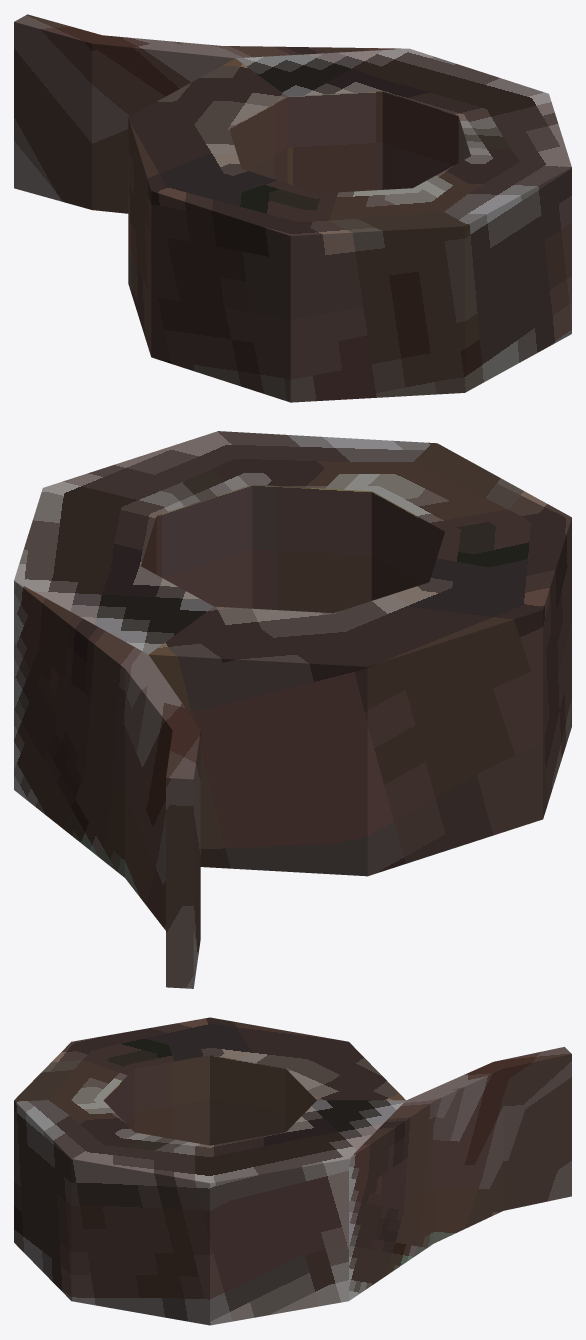
The model's file is item_electrical_tape.glb.
3 renders of one model, top to bottom at view 1: azimuth 30°, elevation 25°; view 2: azimuth 150°, elevation 25°; view 3: azimuth 270°, elevation 25°, orthographic. The views are drawn at different scales.
Parts seen in each view (by area): view 1: ElectricTape; view 2: ElectricTape; view 3: ElectricTape.
Boxes of the visible parts, left/top/right/bottom form: ElectricTape: left=14, top=14, right=571, bottom=402; ElectricTape: left=14, top=431, right=571, bottom=988; ElectricTape: left=14, top=1017, right=571, bottom=1325.
Size of the model in its own units: 0.2 by 0.08 by 0.2845.
1 material, 1 textured.
